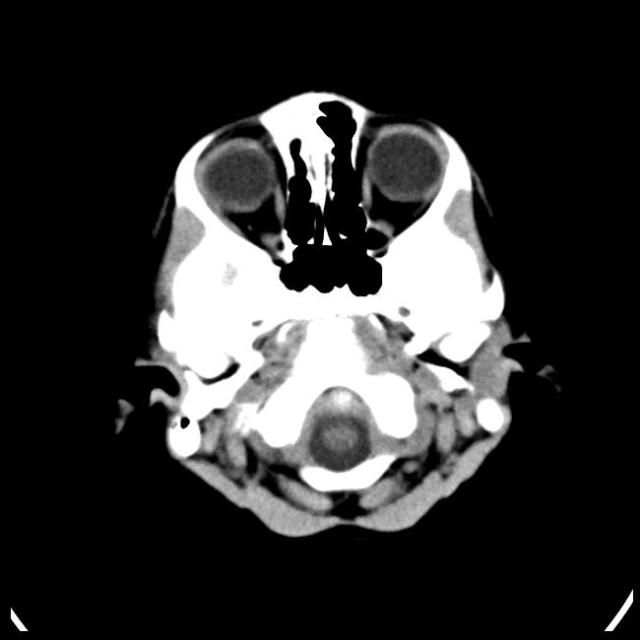lesion: (112, 87, 550, 540)
